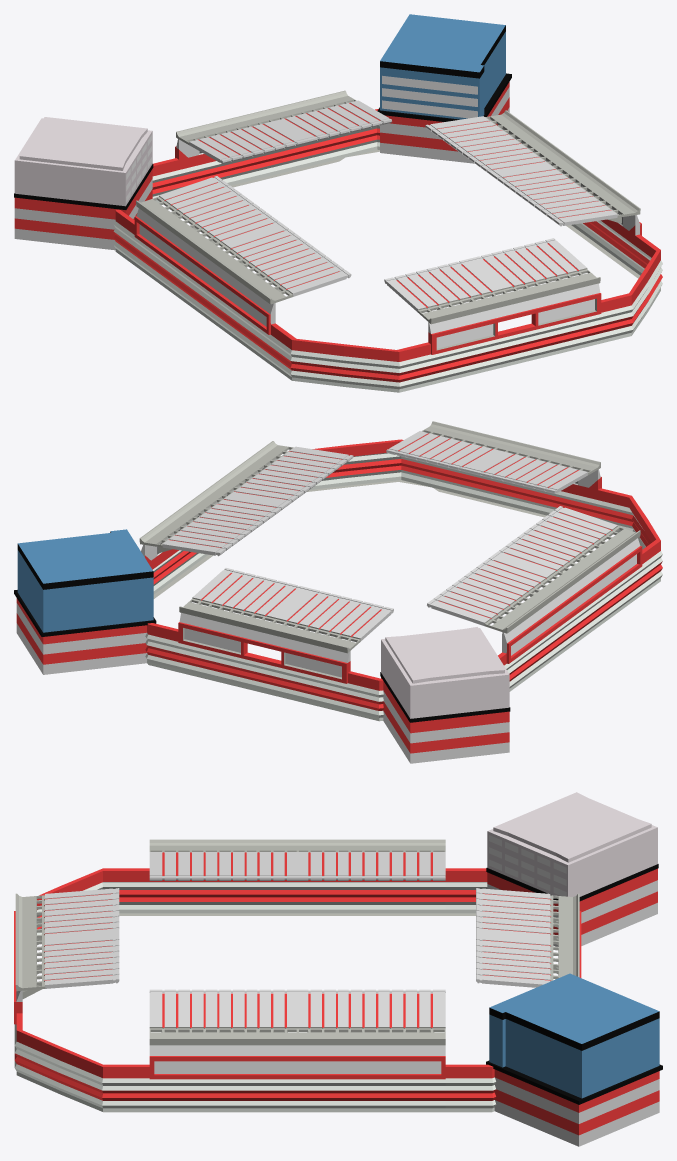
File: Complemento Estadio Octagonal.fbx
The picture shows the model from 3 angles, top to bottom: view 1: azimuth 30°, elevation 25°; view 2: azimuth 150°, elevation 25°; view 3: azimuth 270°, elevation 25°; orthographic projection. The views are drawn at different scales.
Visible parts, largest first — view 1: Complemento Estadio Octagonal; view 2: Complemento Estadio Octagonal; view 3: Complemento Estadio Octagonal.
Boxes of the visible parts, box(x1,y1,x2,y2) form: Complemento Estadio Octagonal: box(14, 14, 662, 392); Complemento Estadio Octagonal: box(14, 421, 662, 763); Complemento Estadio Octagonal: box(14, 792, 662, 1146).
Size of the model in its own units: 30078 by 5291 by 30697.
